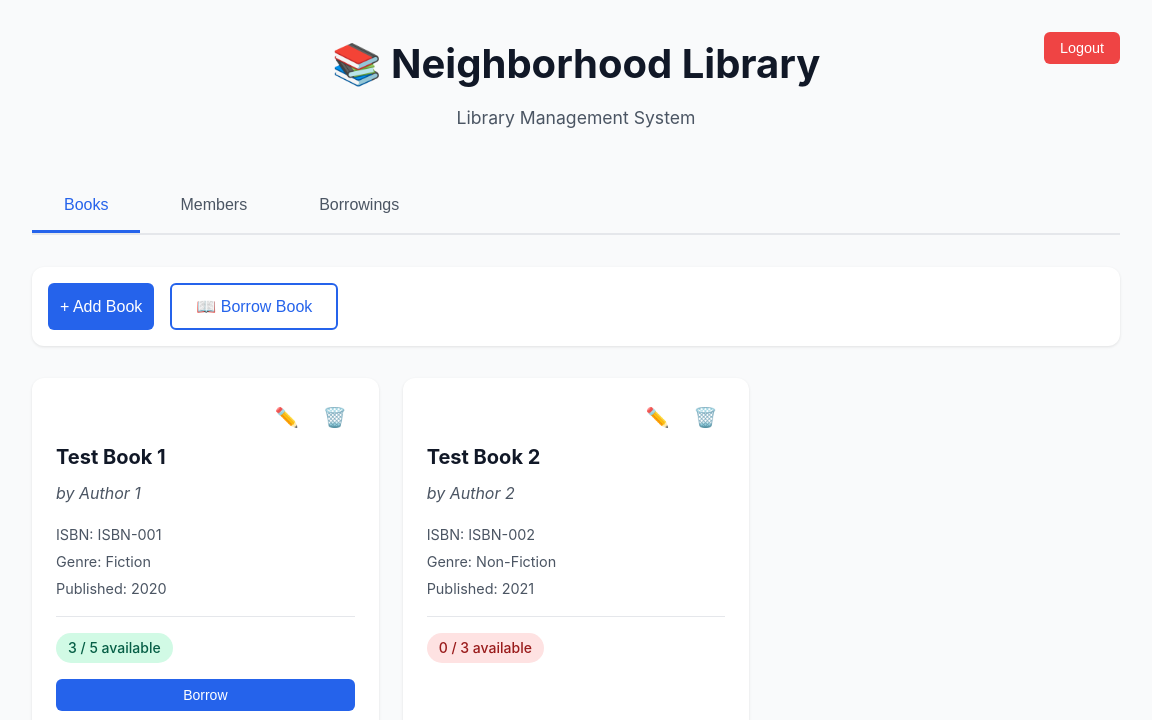
Home Page › Custom Confirmation Modal › should close modal on cancel
Step 1. Click the button "Members" → (214,207), box [148,180,279,233]
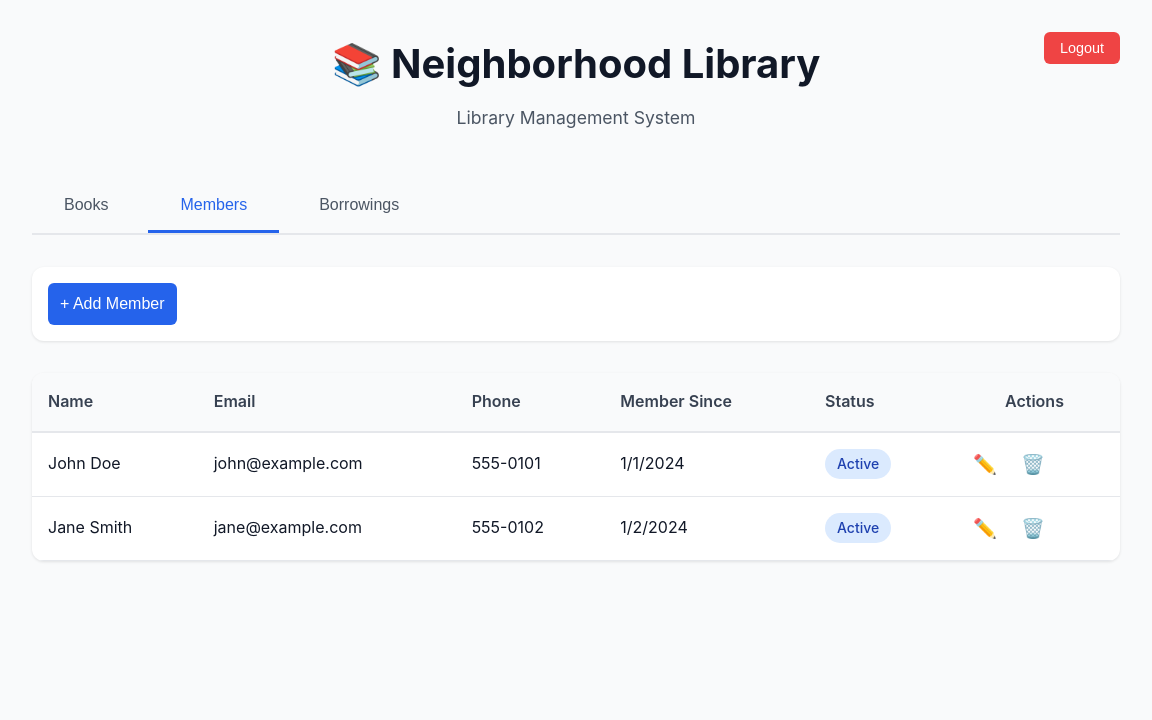
Now the text "John Doe" is shown, box [32,432,198,496]
Step 2. Click the button titled "Delete" in the row of "Doe" → (1033,464), box [1013,449,1053,480]
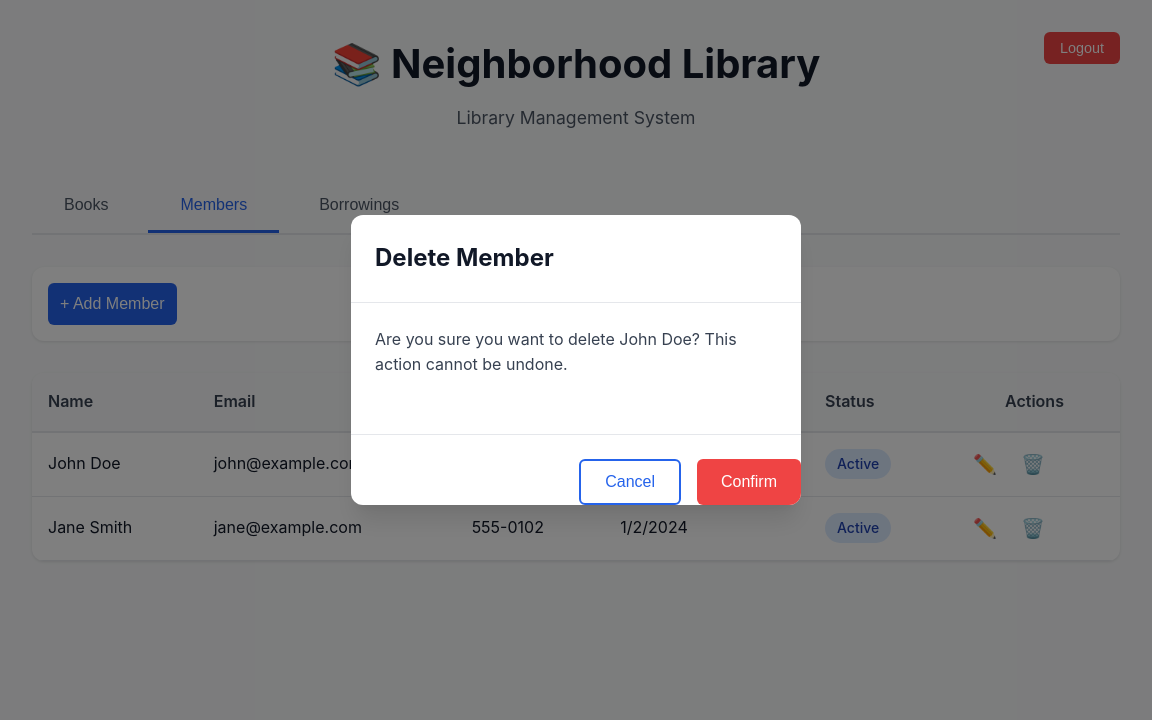
Now the heading "Delete Member" is shown, box [375,239,554,278]
Step 3. Click the button "Cancel" → (630,482), box [579,459,681,505]
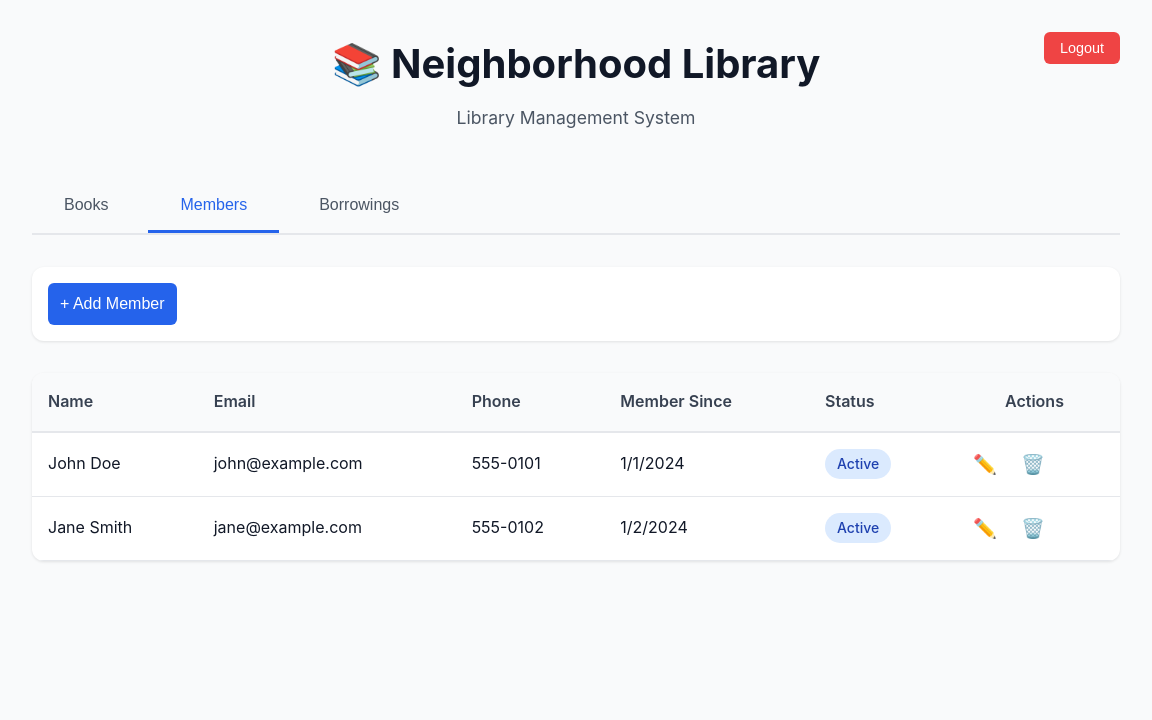
Now the heading "Delete Member" is gone
